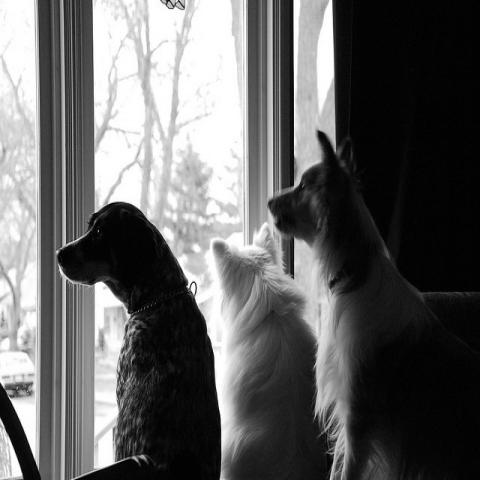car: (1, 351, 36, 398)
